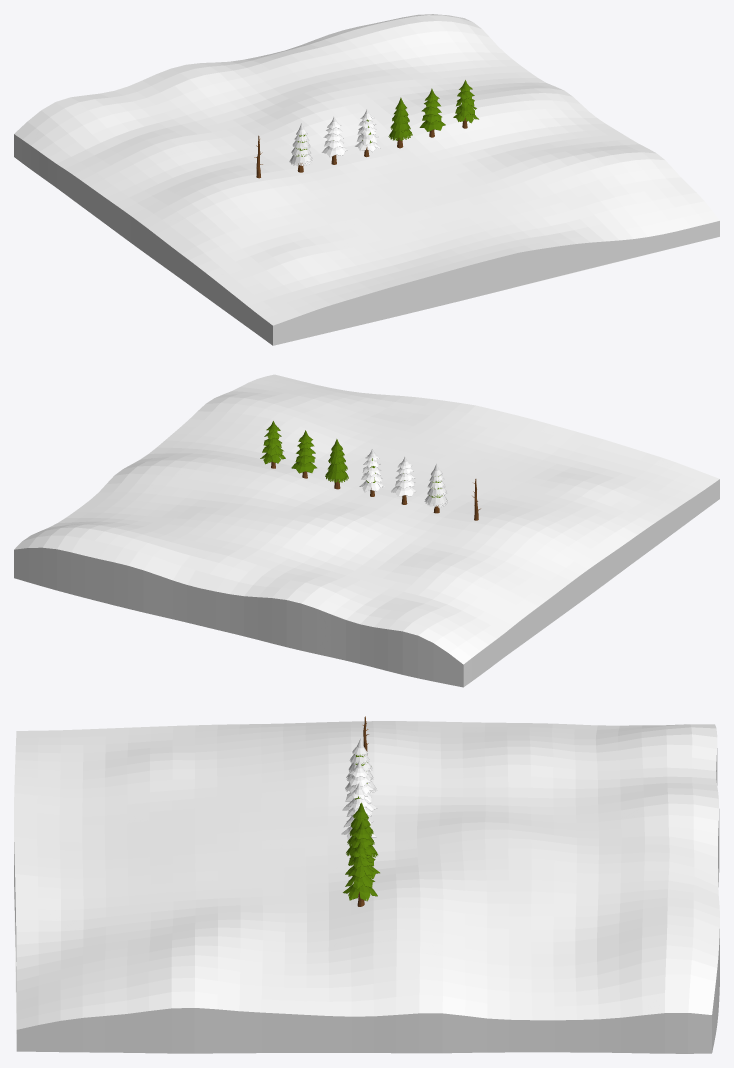
Rendered from pine-trees-pack-1.fbx.
The picture shows the model from 3 angles, top to bottom: view 1: azimuth 30°, elevation 25°; view 2: azimuth 150°, elevation 25°; view 3: azimuth 270°, elevation 25°; orthographic projection. The views are drawn at different scales.
Parts seen in each view (by area): view 1: Ground, SnowPine2, Pine1, Pine2, Pine3, SnowPine3, SnowPine1; view 2: Ground, Pine3, SnowPine3, Pine1, Pine2, SnowPine2, SnowPine1; view 3: Ground, Pine2, SnowPine1, Pine1, SnowPine2, SnowPine3, Pine3.
Part boxes in pixels (bbox=[...]): Ground: bbox=[14, 14, 719, 345]; SnowPine2: bbox=[355, 109, 380, 157]; Pine1: bbox=[419, 88, 445, 137]; Pine2: bbox=[453, 80, 478, 128]; Pine3: bbox=[388, 97, 412, 148]; SnowPine3: bbox=[289, 123, 313, 172]; SnowPine1: bbox=[322, 116, 347, 164]; Ground: bbox=[14, 374, 719, 687]; Pine3: bbox=[325, 439, 348, 489]; SnowPine3: bbox=[424, 463, 448, 513]; Pine1: bbox=[291, 430, 316, 478]; Pine2: bbox=[260, 421, 285, 468]; SnowPine2: bbox=[359, 449, 384, 496]; SnowPine1: bbox=[391, 456, 416, 504]; Ground: bbox=[14, 721, 719, 1053]; Pine2: bbox=[343, 842, 377, 906]; SnowPine1: bbox=[342, 760, 377, 812]; Pine1: bbox=[345, 821, 379, 878]; SnowPine2: bbox=[341, 783, 376, 840]; SnowPine3: bbox=[345, 738, 377, 794]; Pine3: bbox=[346, 802, 377, 857].
Size of the model in its own units: 7139 by 1425 by 7184.
